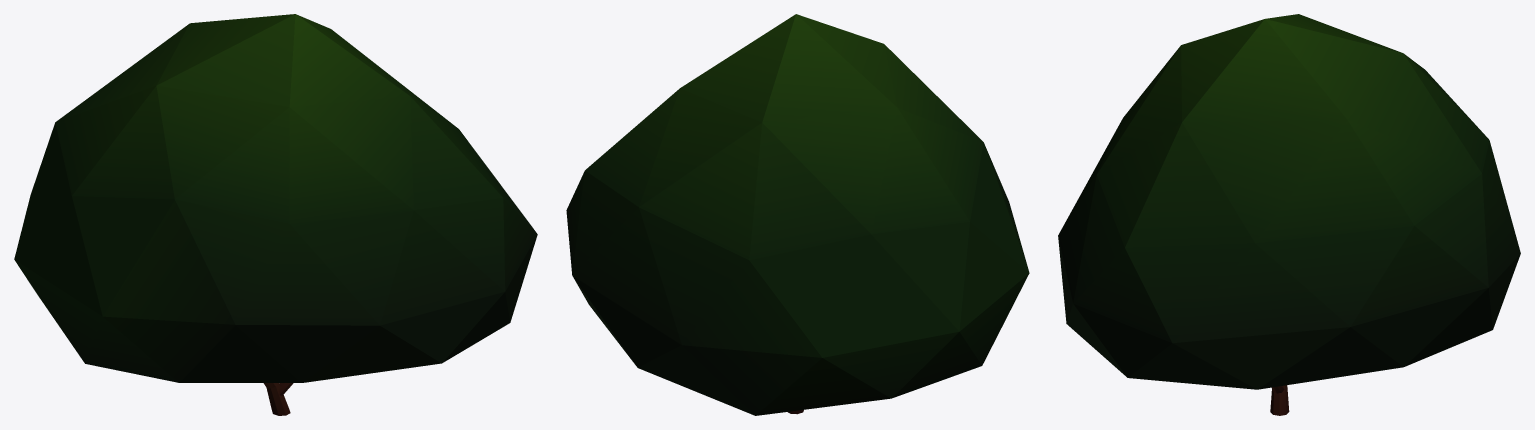
File: Bush 1.fbx
The picture shows the model from 3 angles, left to right: view 1: azimuth 30°, elevation 25°; view 2: azimuth 150°, elevation 25°; view 3: azimuth 270°, elevation 25°; orthographic projection. The views are drawn at different scales.
Parts seen in each view (by area): view 1: Bush; view 2: Bush; view 3: Bush.
Part boxes in pixels (x1=…): Bush: x1=14, y1=14, x2=537, y2=415; Bush: x1=566, y1=14, x2=1029, y2=415; Bush: x1=1058, y1=14, x2=1520, y2=415.
Bounding box in the file's own units: 179 × 163 × 173.
